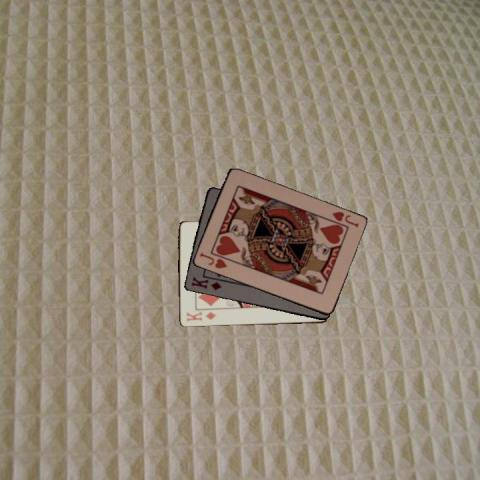Jh: (197, 249, 228, 270), (329, 209, 360, 229)
Kd: (188, 274, 223, 292), (183, 309, 217, 322)
